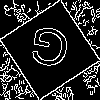G: (25, 25, 73, 78)
